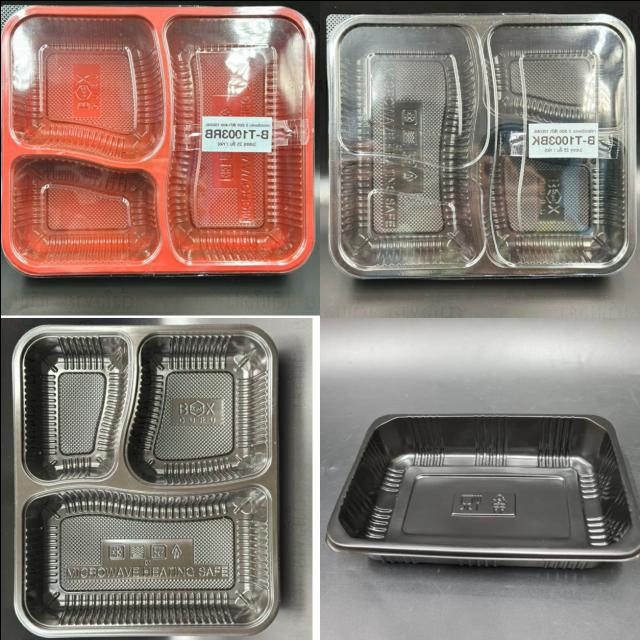plastik: (0, 6, 313, 274), (11, 323, 278, 636), (327, 13, 634, 277), (327, 415, 640, 567)
